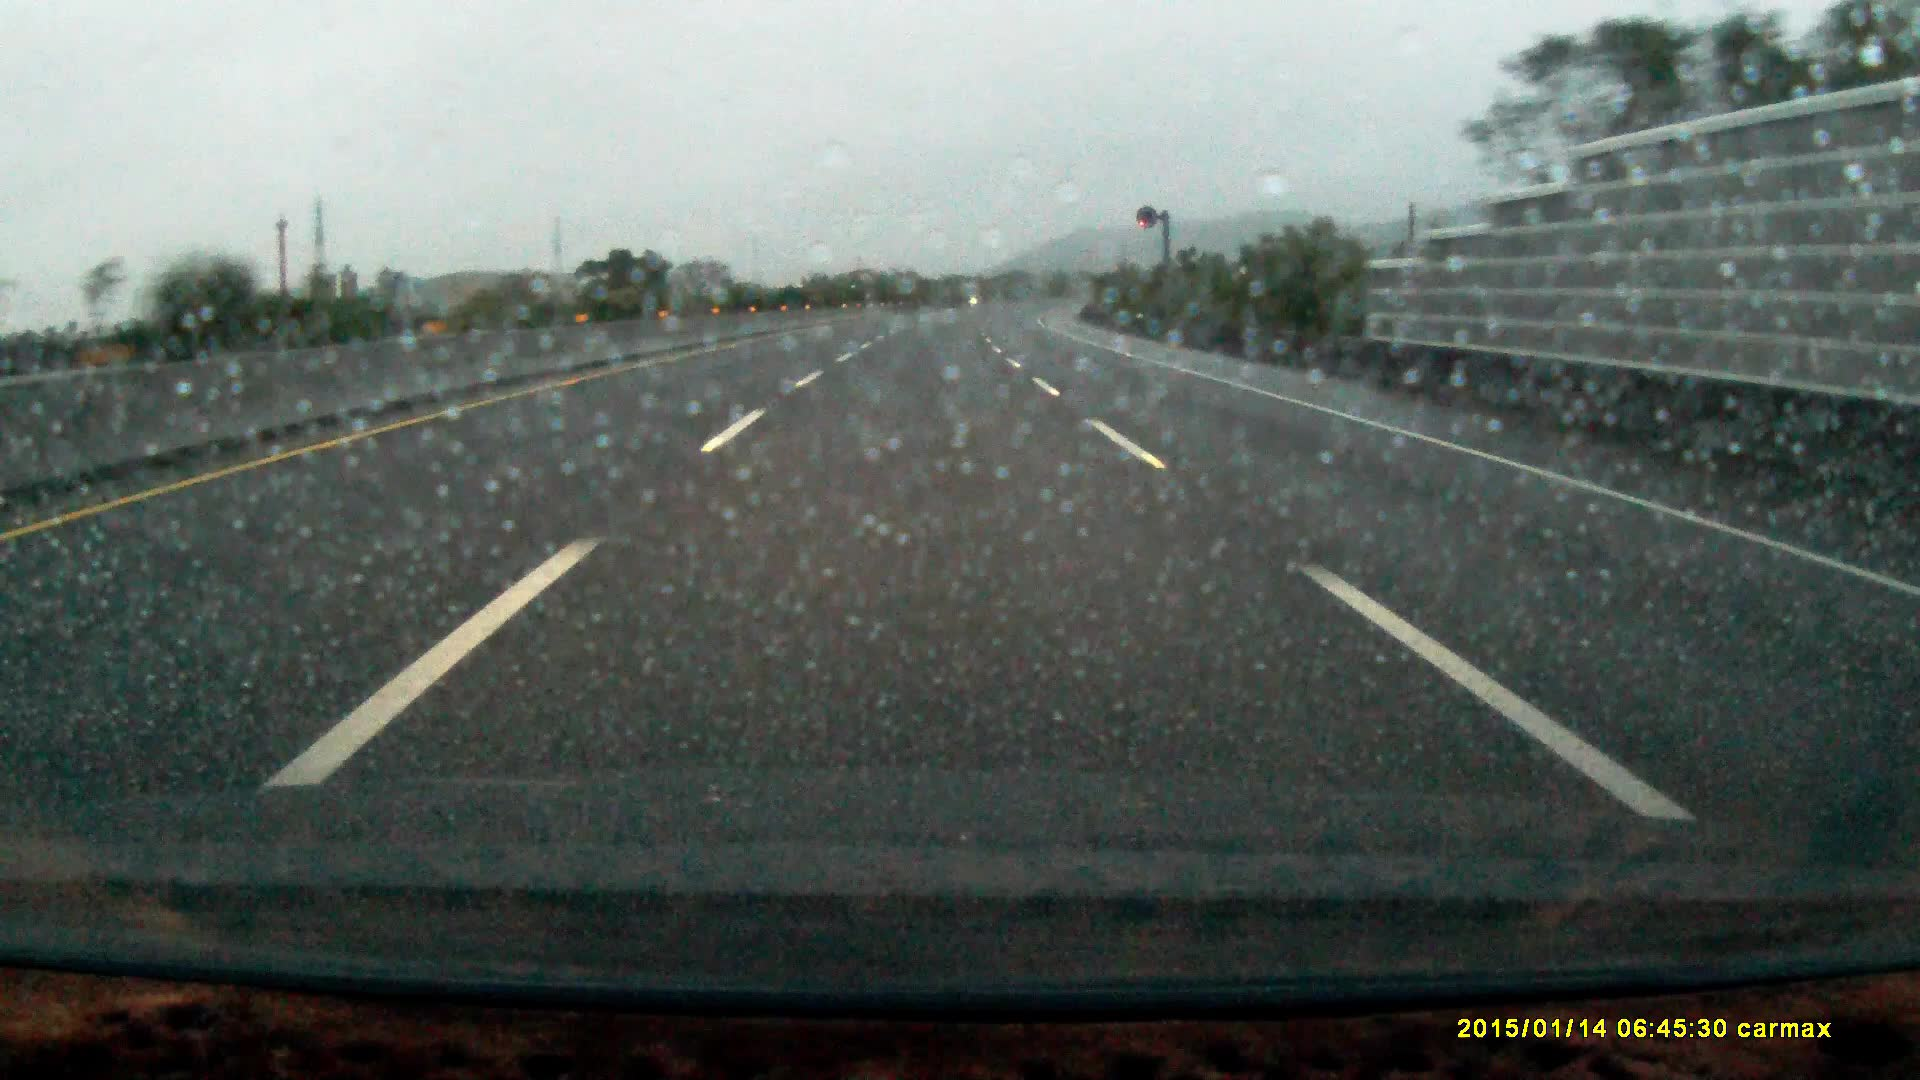vehicle: (841, 269, 884, 309)
